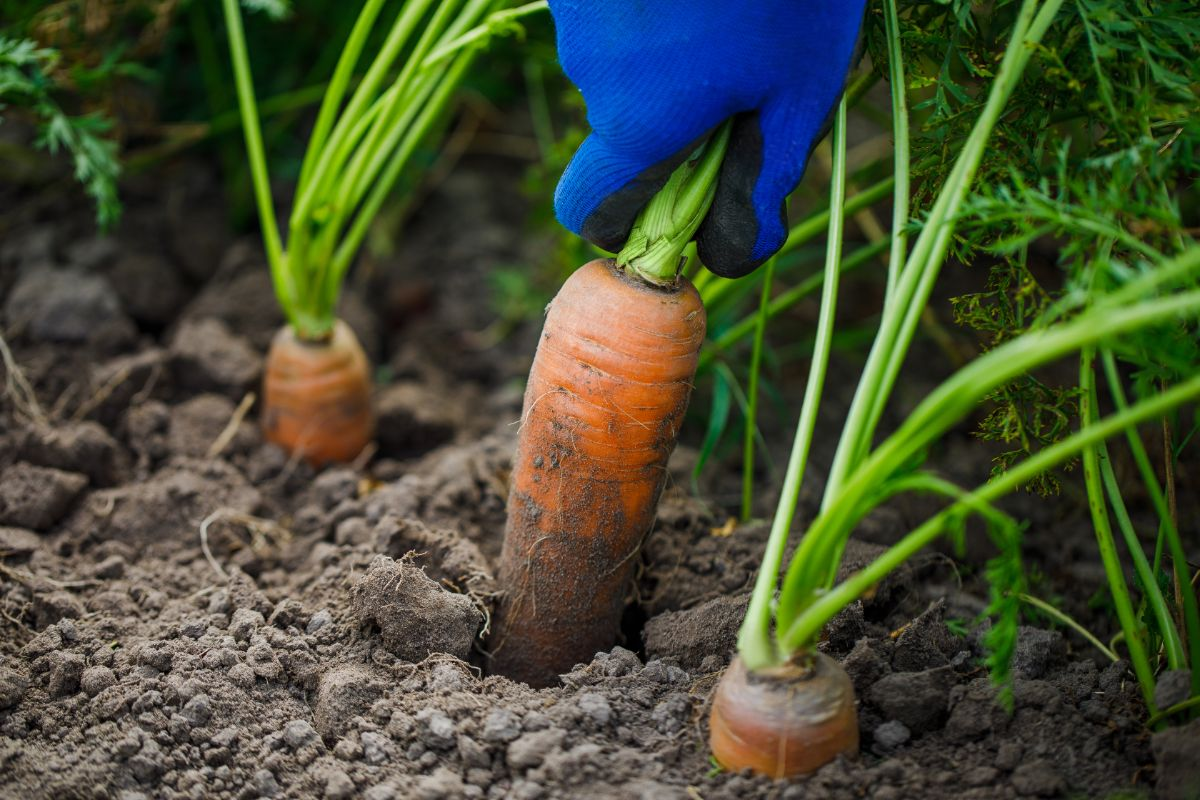carrot: (468, 201, 728, 706)
